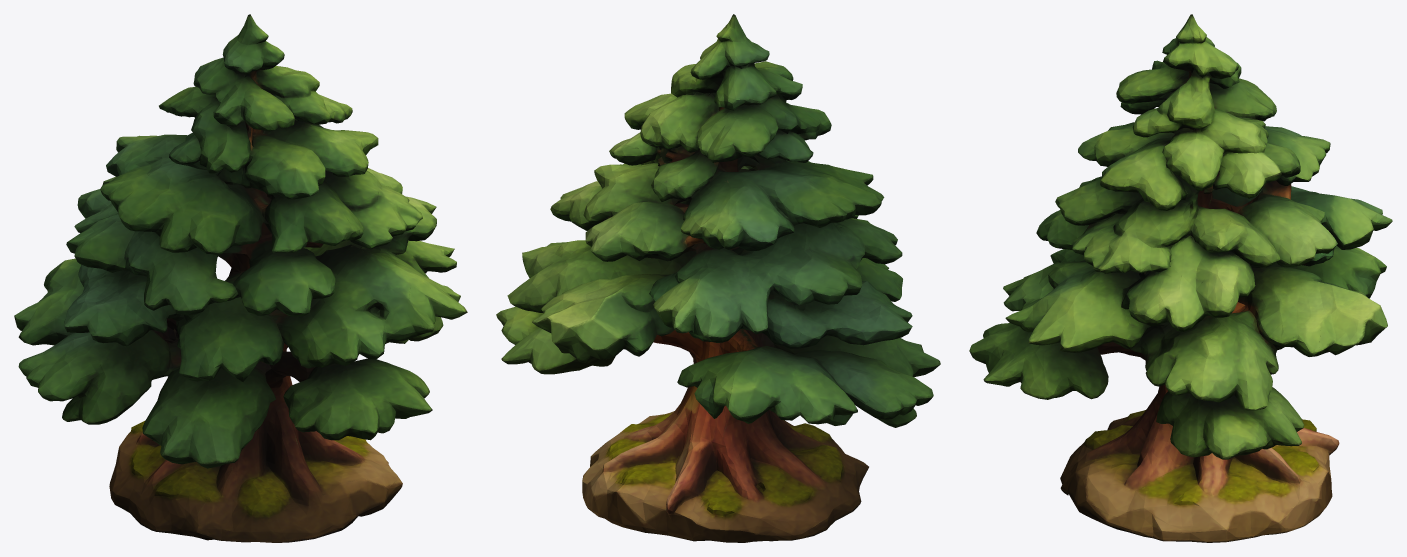
The picture shows the model from 3 angles, left to right: view 1: azimuth 30°, elevation 25°; view 2: azimuth 150°, elevation 25°; view 3: azimuth 270°, elevation 25°; orthographic projection. The views are drawn at different scales.
Visible parts, largest first — view 1: world; view 2: world; view 3: world.
Part boxes in pixels (x1,y1,x2,y2): world: (14, 14, 467, 542); world: (496, 14, 940, 542); world: (969, 14, 1392, 542).
Size of the model in its own units: 6.57 by 7.04 by 5.76.
Materials: 1 (1 with a texture image).
